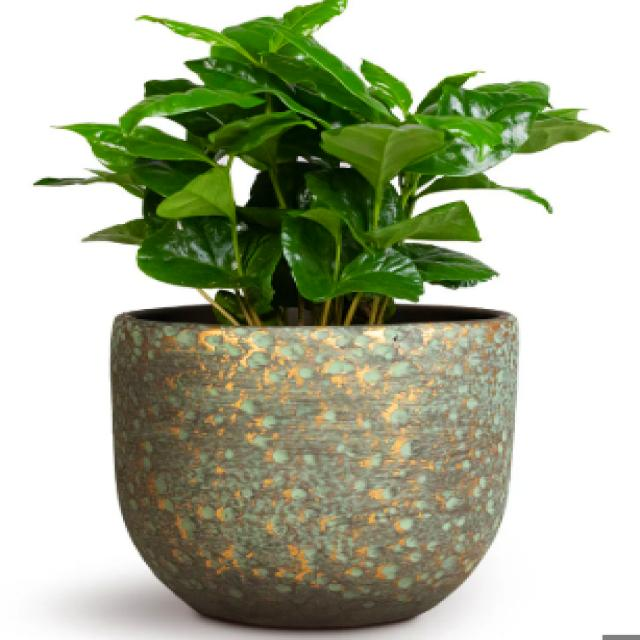Plant Pot: (88, 298, 554, 640)
